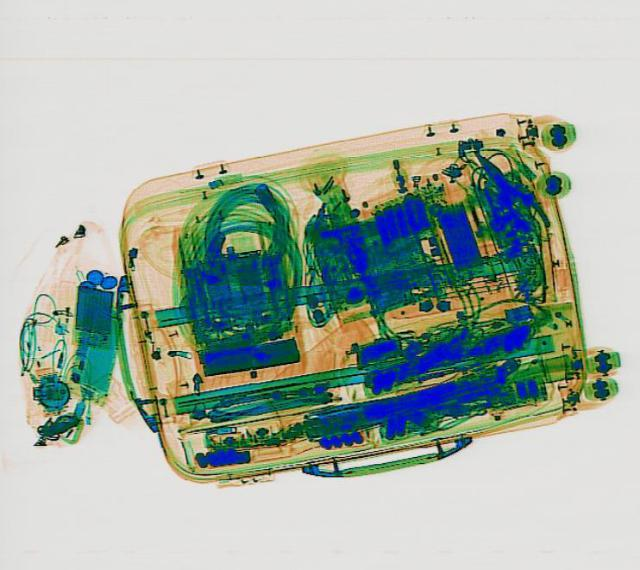Pliers: (455, 141, 555, 240)
